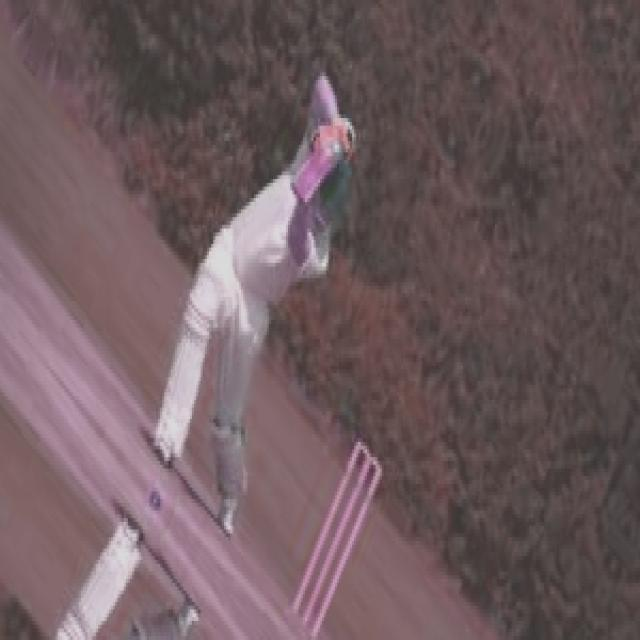bat: (277, 144, 341, 218)
toe: (290, 178, 309, 210)
